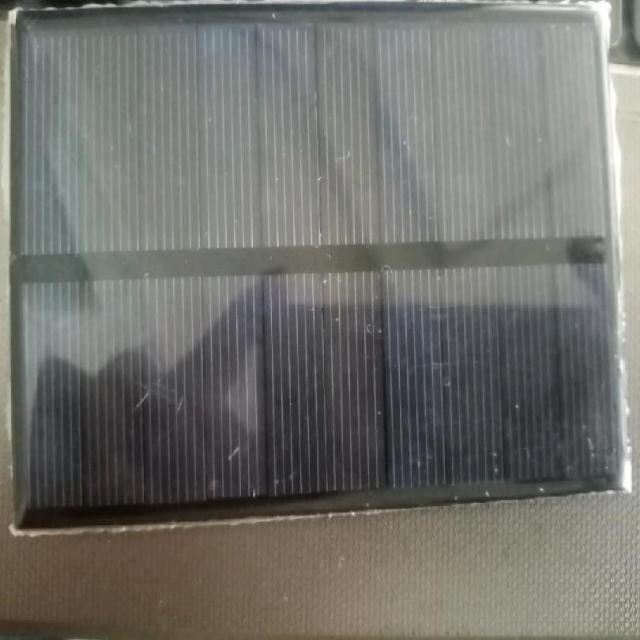no faulty: (16, 16, 621, 508)
